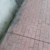zebra: (1, 10, 50, 31)
